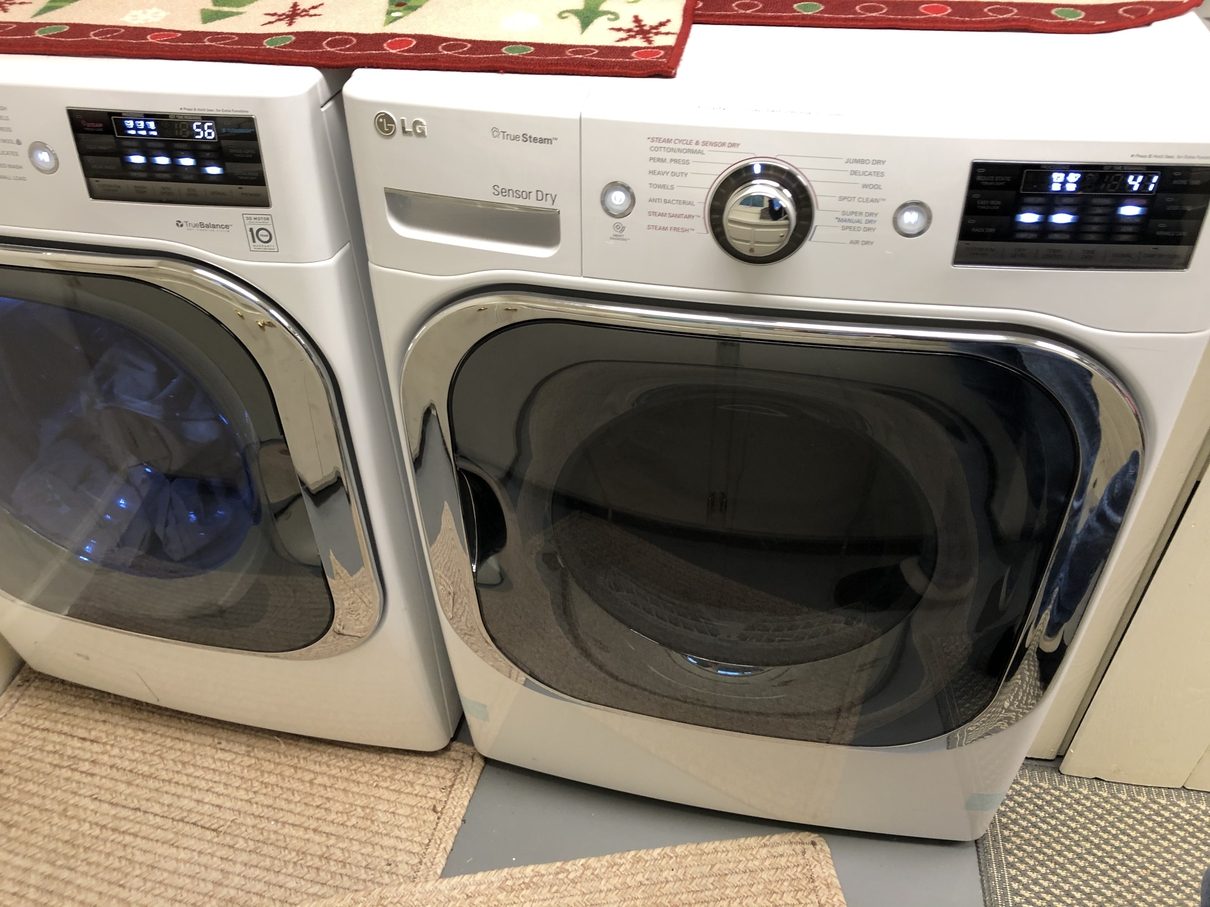status: (1008, 157, 1163, 205)
